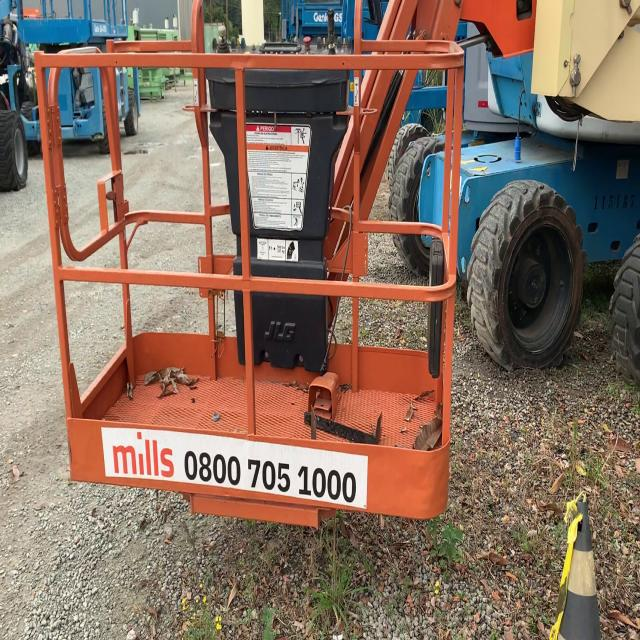Adesivo Longo: (100, 425, 370, 511)
